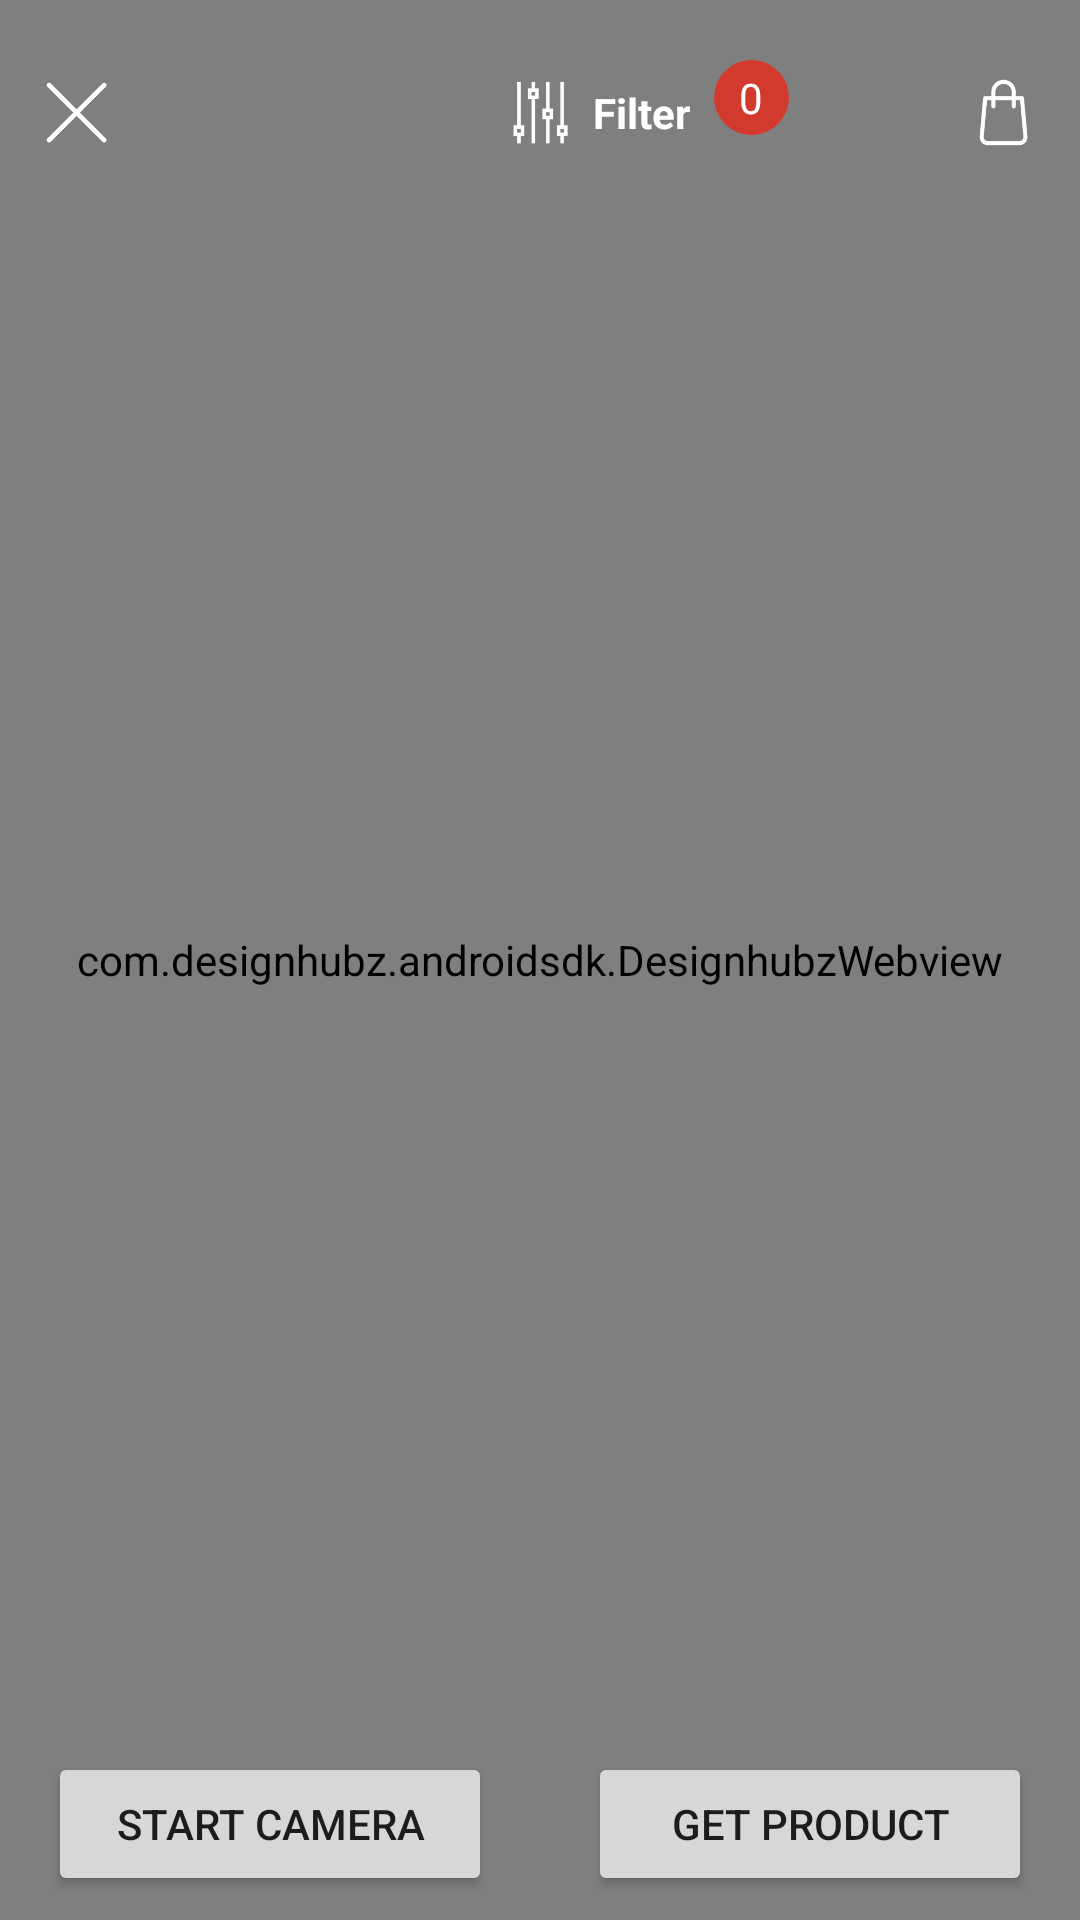

Screen size 1080px x 1920px. Icon name, then its center in pixels as point (x, y):
bag: point (1003, 112)
close: point (77, 113)
